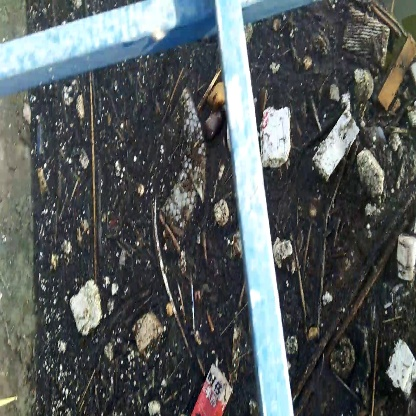milk-box: (184, 358, 237, 416)
